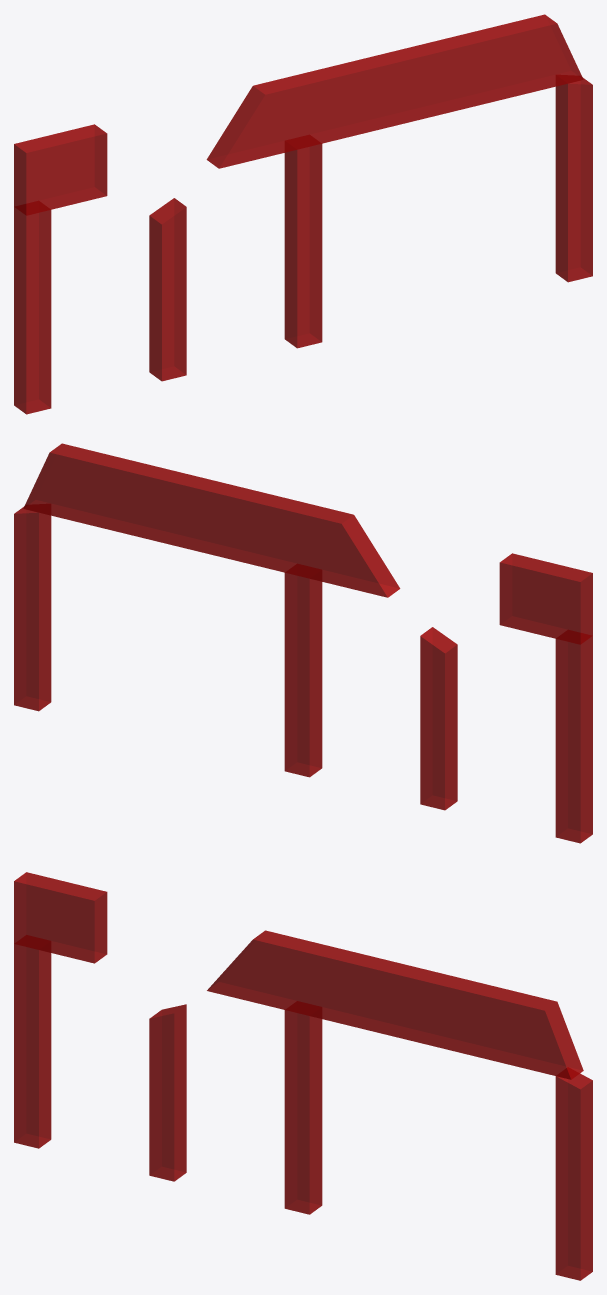
The model's file is SM_Bld_Village_Archway_01_Destroyed_Collision.fbx.
The picture shows the model from 3 angles, top to bottom: view 1: azimuth 30°, elevation 25°; view 2: azimuth 150°, elevation 25°; view 3: azimuth 330°, elevation 25°; orthographic projection.
Parts seen in each view (by area): view 1: SM_Bld_Village_Archway_01_Destroyed_Collision; view 2: SM_Bld_Village_Archway_01_Destroyed_Collision; view 3: SM_Bld_Village_Archway_01_Destroyed_Collision.
Part boxes in pixels (bbox=[...]): SM_Bld_Village_Archway_01_Destroyed_Collision: bbox=[14, 14, 592, 414]; SM_Bld_Village_Archway_01_Destroyed_Collision: bbox=[14, 443, 592, 843]; SM_Bld_Village_Archway_01_Destroyed_Collision: bbox=[14, 872, 592, 1280].
Size of the model in its own units: 960 by 423 by 36.52.
